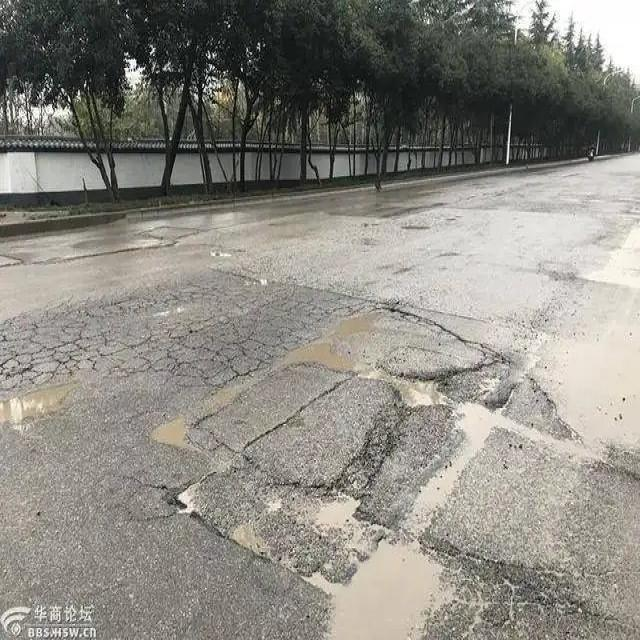Pothole: (169, 442, 501, 638), (287, 290, 525, 426), (0, 381, 108, 428)
